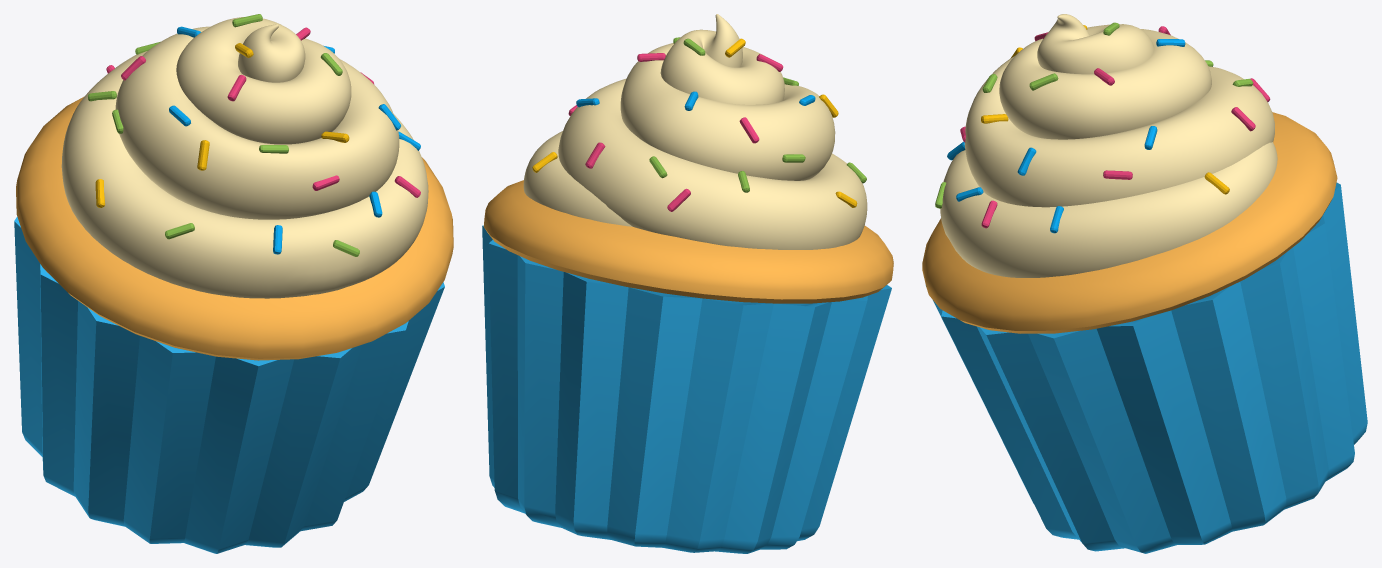
The model's file is cupcake.fbx.
3 views of the same model, side by side, from view 1: azimuth 30°, elevation 25°; view 2: azimuth 150°, elevation 25°; view 3: azimuth 270°, elevation 25° (orthographic). The views are drawn at different scales.
Visible parts, largest first — view 1: Circle.2259; view 2: Circle.2259; view 3: Circle.2259.
Boxes of the visible parts, left/top/right/bottom form: Circle.2259: left=14, top=14, right=453, bottom=553; Circle.2259: left=482, top=14, right=893, bottom=553; Circle.2259: left=922, top=14, right=1367, bottom=553.
Size of the model in its own units: 171 by 220 by 177.
1 material, 1 textured.
